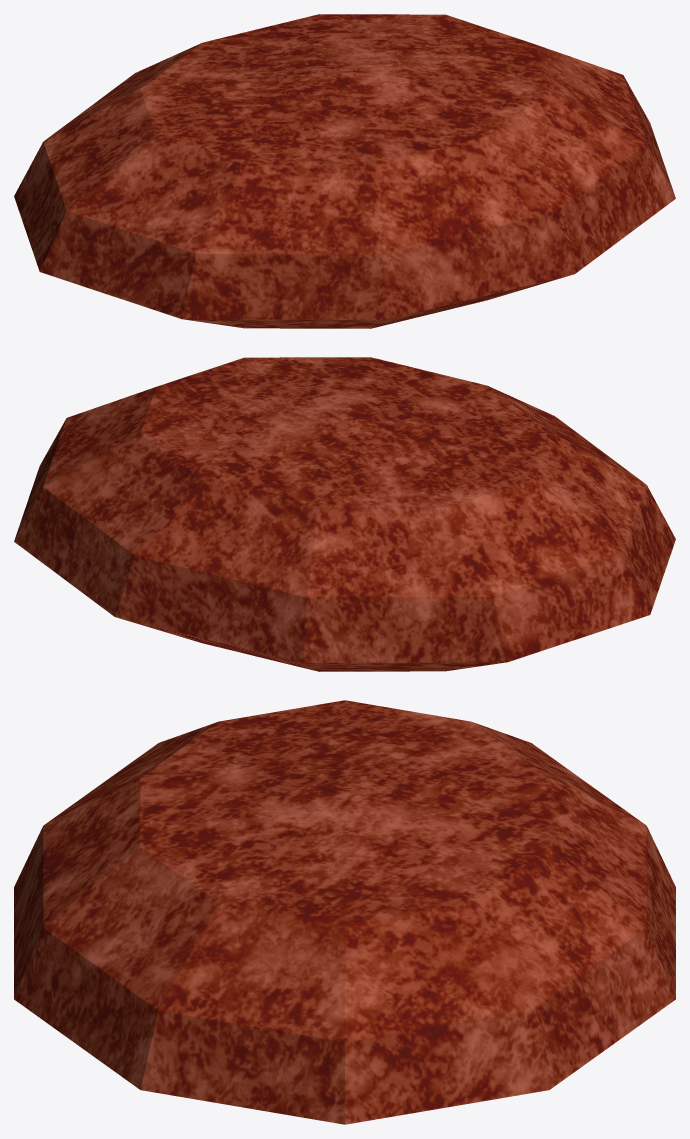
Rendered from hanba-gu.fbx.
The picture shows the model from 3 angles, top to bottom: view 1: azimuth 30°, elevation 25°; view 2: azimuth 150°, elevation 25°; view 3: azimuth 270°, elevation 25°; orthographic projection. The views are drawn at different scales.
Parts seen in each view (by area): view 1: pSphere1; view 2: pSphere1; view 3: pSphere1.
Part boxes in pixels (<box>): pSphere1: <box>14,14,675,328</box>; pSphere1: <box>14,357,675,671</box>; pSphere1: <box>14,700,675,1124</box>.
Bounding box in the file's own units: 2.35 × 0.6649 × 1.81.
Materials: 1 (1 with a texture image).
